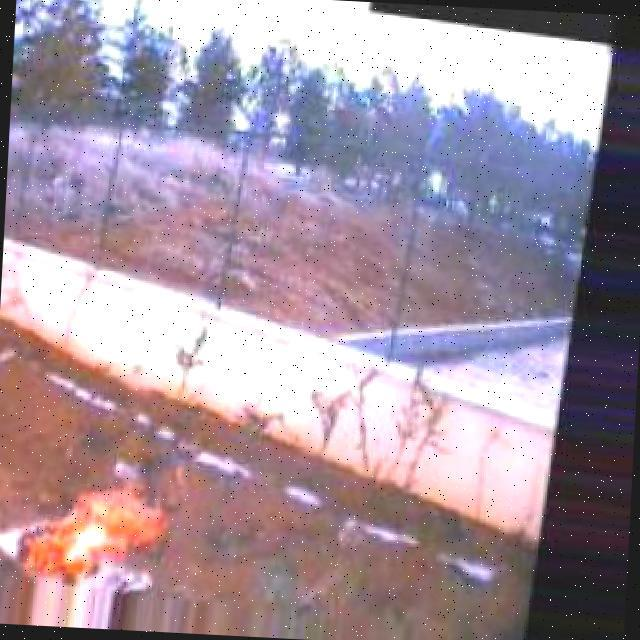Fire: (19, 471, 180, 581)
